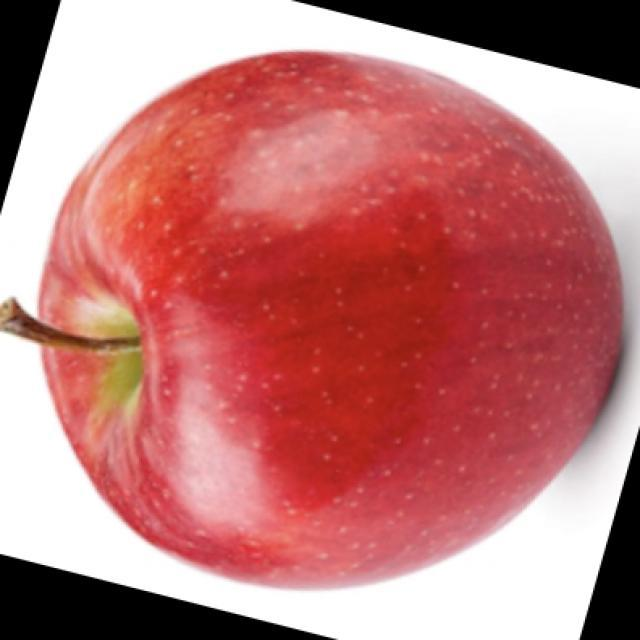Fresh Apple: (37, 62, 638, 588)
